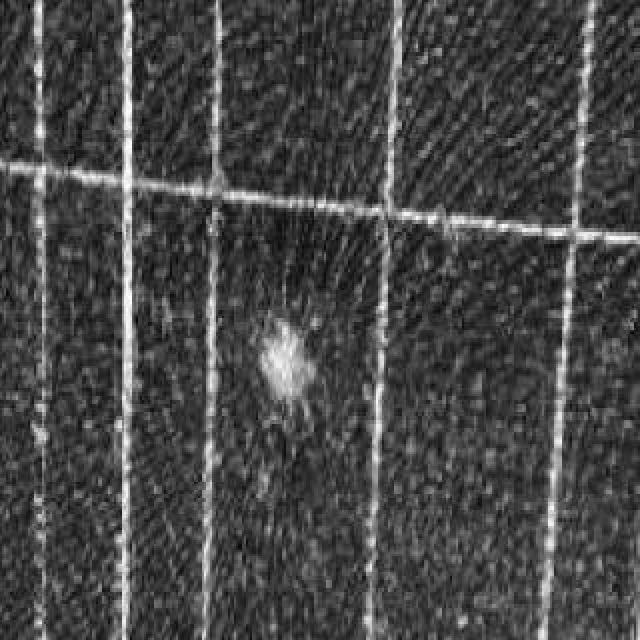Physical-damage: (234, 291, 390, 477)
